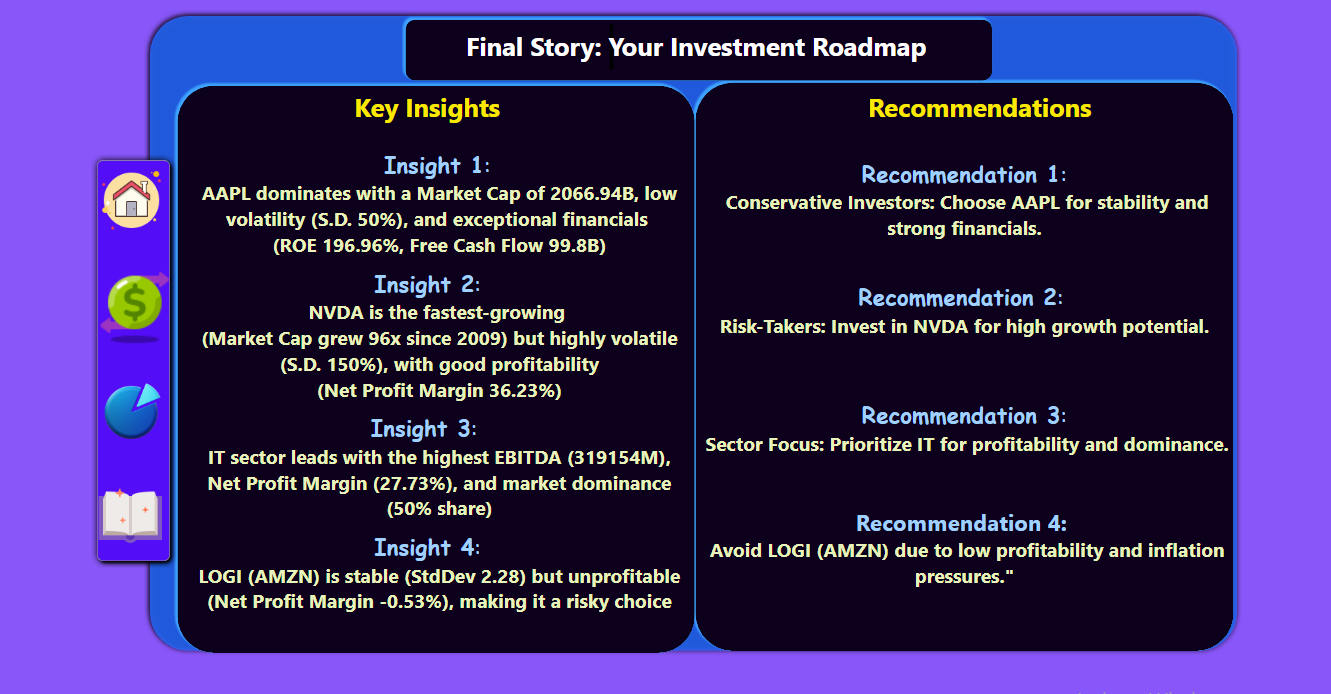

The dashboard page shown, as its layout file describes it:
{"tool":"powerbi","page":{"name":"Final Story📅📋📧📓","canvas":[1920,1080],"ordinal":3},"visuals":[{"type":"shape","box":[87.6,0,1831.9,1078],"z":500},{"type":"shape","box":[998.5,112.1,914.9,965.9],"z":1000},{"type":"shape","box":[134.5,116.2,880.3,963.8],"z":2000},{"type":"shape","box":[0,240.3,141.6,688.6],"z":3000},{"type":"shape","box":[515.5,6.1,996.5,120.2],"z":4000},{"type":"image","box":[0,242.4,135.2,150.2],"z":5000},{"type":"image","box":[0,768,130.9,148],"z":6000},{"type":"image","box":[0,388.3,145.9,197.4],"z":7000},{"type":"image","box":[10.7,581.4,113.7,178.1],"z":8000},{"type":"shape","box":[834.1,22.7,68.1,76.4],"z":9000},{"type":"textbox","box":[171.2,126.3,788.6,95.8],"z":10000},{"type":"textbox","box":[619.5,24.5,931.2,101.9],"z":11000},{"type":"textbox","box":[1289.9,126.3,458.5,95.8],"z":15000},{"type":"textbox","box":[146.7,207.8,868.1,870.1],"z":16000},{"type":"textbox","box":[998.5,240.5,914.9,813.1],"z":17000}]}

Visuals, with their boxes on the page's 1920x1080 design canvas (x1, y1, x2, y2). These are canvas units, not pixel positions in the 1331x694 screenshot, which may show the page scaled, cropped or inside an application window:
shape: [left=88, top=0, right=1920, bottom=1078]
shape: [left=998, top=112, right=1913, bottom=1078]
shape: [left=134, top=116, right=1015, bottom=1080]
shape: [left=0, top=240, right=142, bottom=929]
shape: [left=516, top=6, right=1512, bottom=126]
image: [left=0, top=242, right=135, bottom=393]
image: [left=0, top=768, right=131, bottom=916]
image: [left=0, top=388, right=146, bottom=586]
image: [left=11, top=581, right=124, bottom=760]
shape: [left=834, top=23, right=902, bottom=99]
textbox: [left=171, top=126, right=960, bottom=222]
textbox: [left=620, top=24, right=1551, bottom=126]
textbox: [left=1290, top=126, right=1748, bottom=222]
textbox: [left=147, top=208, right=1015, bottom=1078]
textbox: [left=998, top=240, right=1913, bottom=1054]
